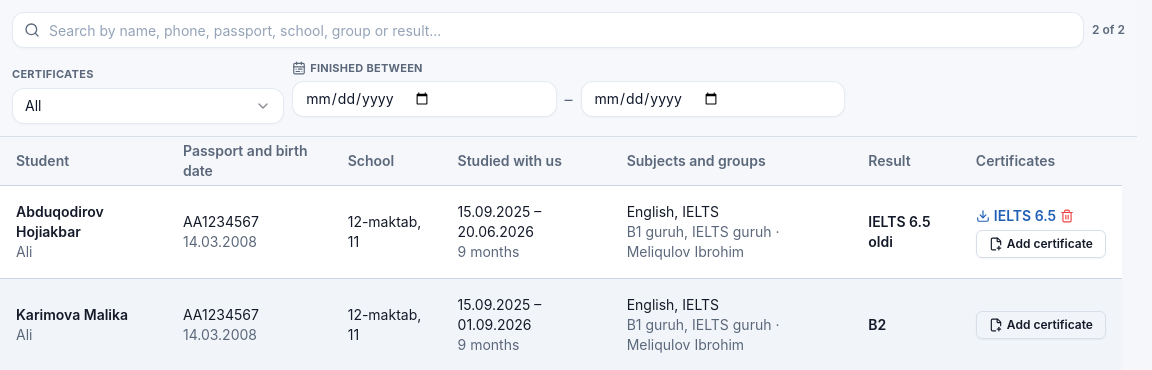
Test: graduates tab › searches graduates and filters by when they finished
The width and height of the screenshot is (1152, 370).
Expected: the text "Karimova Malika" is shown, x1=16 y1=306 x2=128 y2=322
Expected: the text "2 of 2" is shown, x1=1092 y1=22 x2=1125 y2=38
Type "ielts 6.5" into the field labelled "Search" at (548, 30), box x1=12 y1=12 x2=1084 y2=48
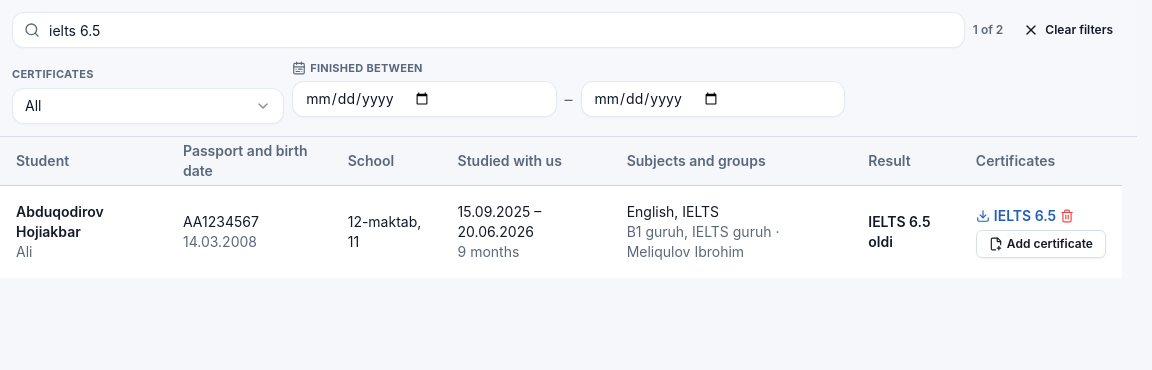
Expected: the text "1 of 2" is shown, x1=973 y1=22 x2=1003 y2=38
Expected: the text "Karimova Malika" is gone
Clear the field named "Search" at (488, 30), box x1=12 y1=12 x2=965 y2=48
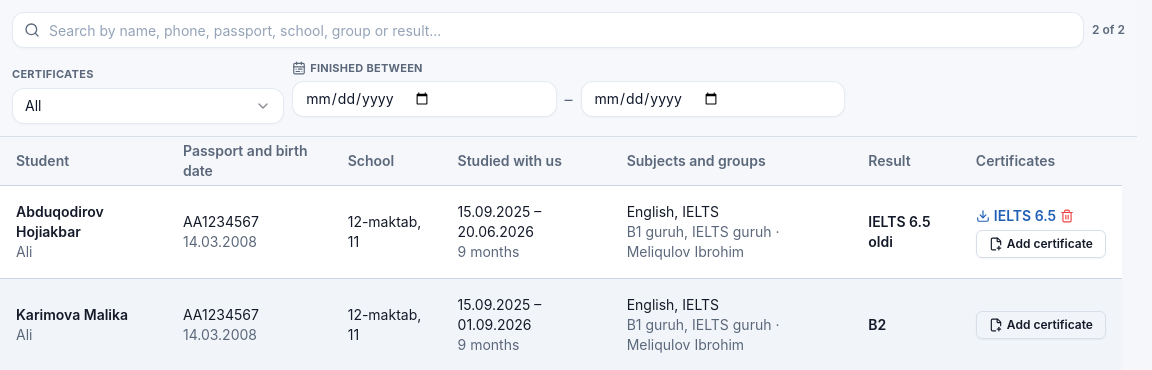
# Hojiakbar finished on 20 Jun, Malika on 1 Sep.
Type "2026-07-01" into the date field named "From date" at (424, 98), box x1=292 y1=80 x2=557 y2=116
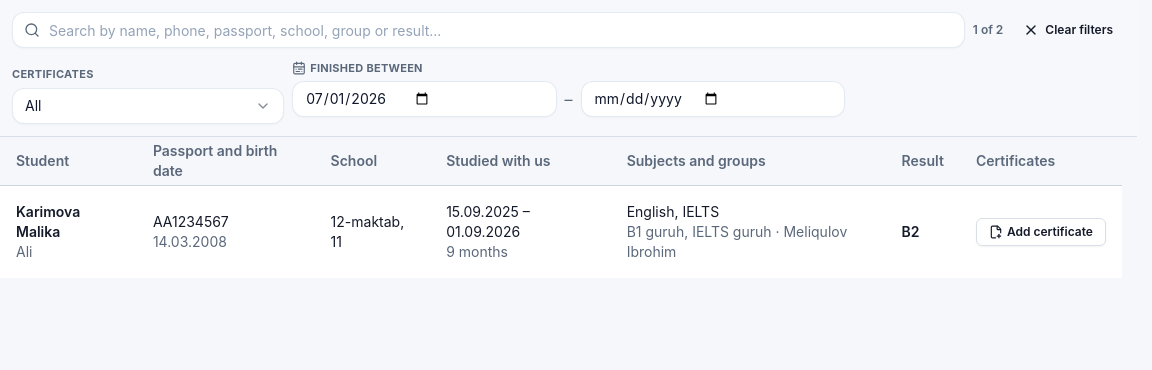
Expected: the text "Karimova Malika" is shown, x1=16 y1=202 x2=80 y2=240
Expected: the text "1 of 2" is shown, x1=973 y1=22 x2=1003 y2=38
